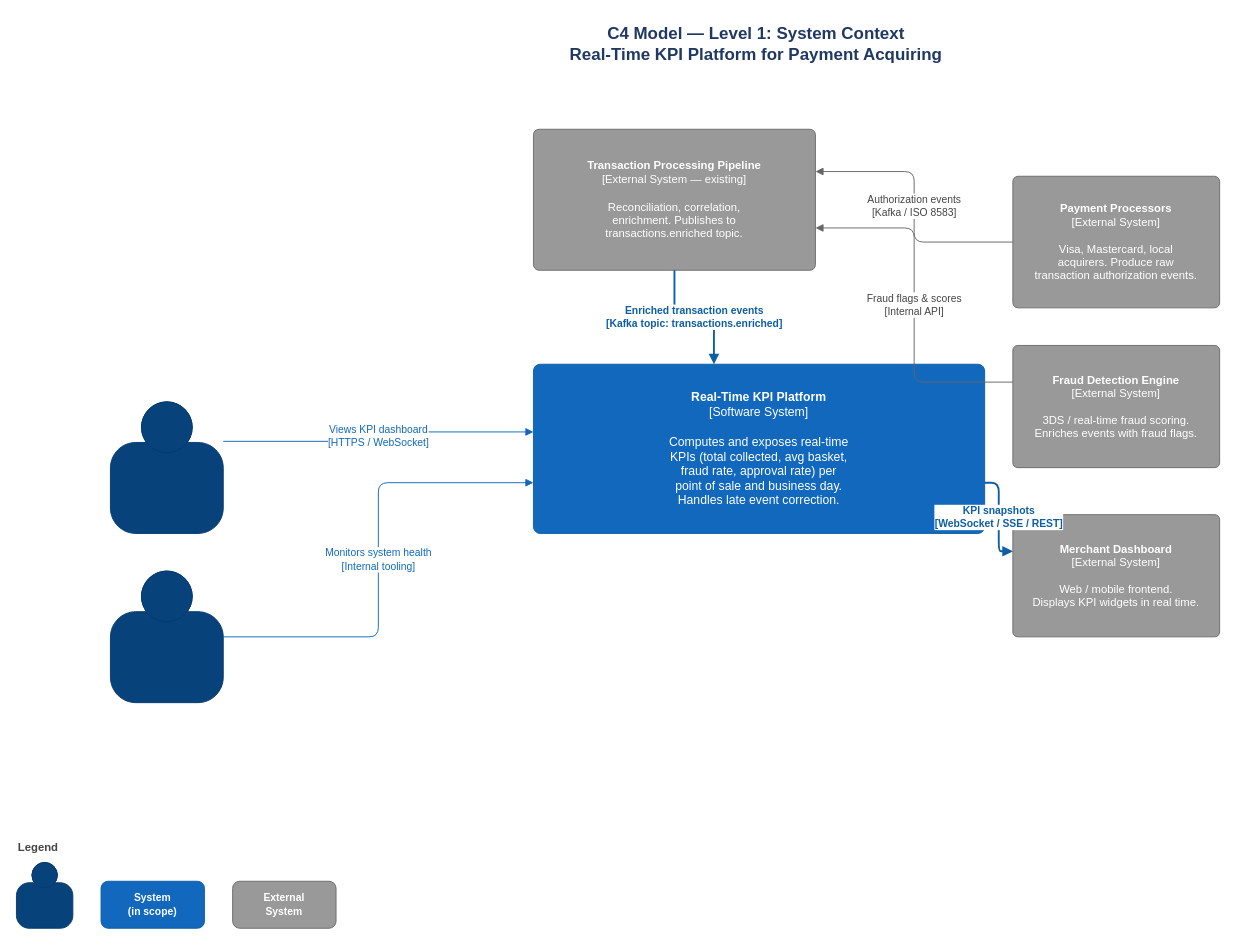
This 1236x945 diagram has some shape labels left out. The shapes that lost their labels are listed below. From the top down, each one's box as (x1, y1, x2, y2) in pixels, then its label:
(110, 401, 223, 533): Merchant [Person] Monitors payment activity via dashboard
(110, 570, 223, 703): Platform Operator [Person] Monitors system health and data quality
(16, 862, 73, 928): Person
